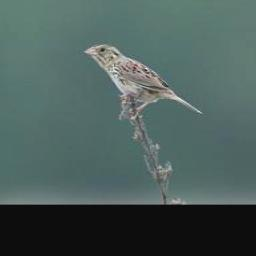Sparrow: (86, 42, 204, 121)
